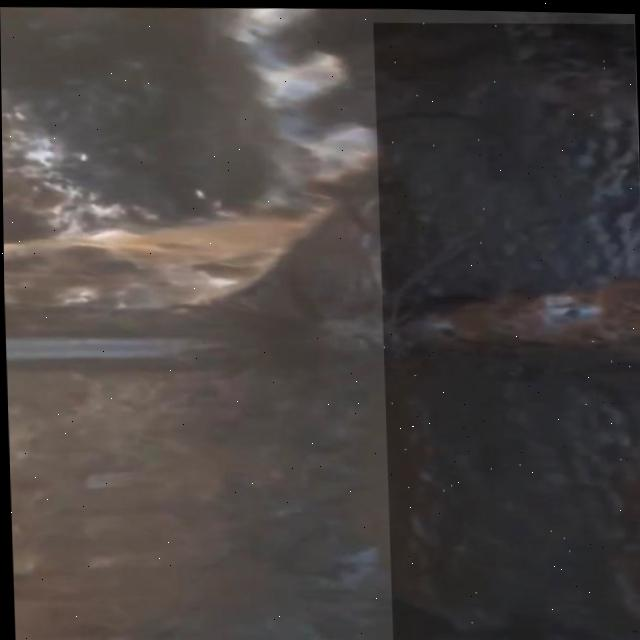spillage: (373, 20, 640, 640)
